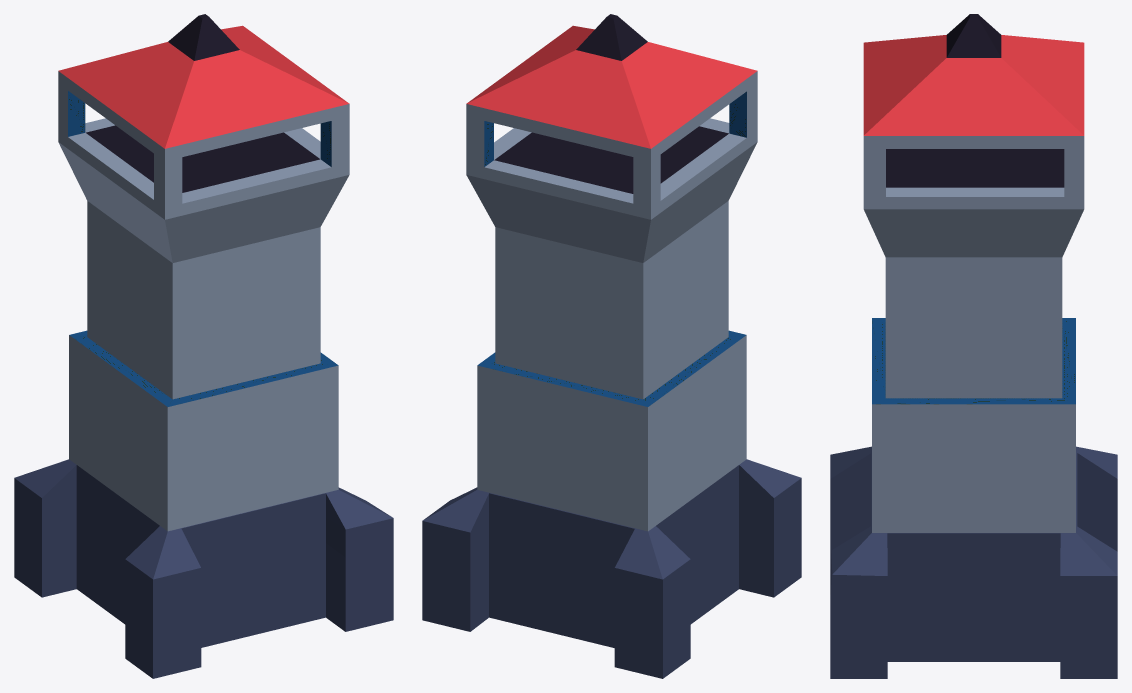
The model's file is tower1.glb.
3 renders of one model, left to right at view 1: azimuth 30°, elevation 25°; view 2: azimuth 150°, elevation 25°; view 3: azimuth 270°, elevation 25°, orthographic. The views are drawn at different scales.
Parts seen in each view (by area): view 1: Cube; view 2: Cube; view 3: Cube.
Boxes of the visible parts, x1,y1,x2,y2 form: Cube: [14, 14, 393, 678]; Cube: [422, 14, 801, 678]; Cube: [830, 14, 1117, 678].
Size of the model in its own units: 2.03 by 4.69 by 2.03.
1 material, 1 textured.
